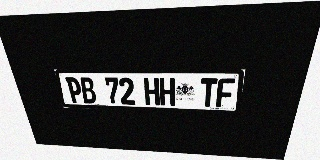2: (118, 78, 135, 105)
7: (104, 77, 121, 104)
B: (79, 77, 97, 104)
F: (216, 78, 235, 107)
H: (159, 78, 175, 106), (144, 78, 160, 105)
P: (65, 77, 84, 103)
T: (200, 78, 218, 107)
